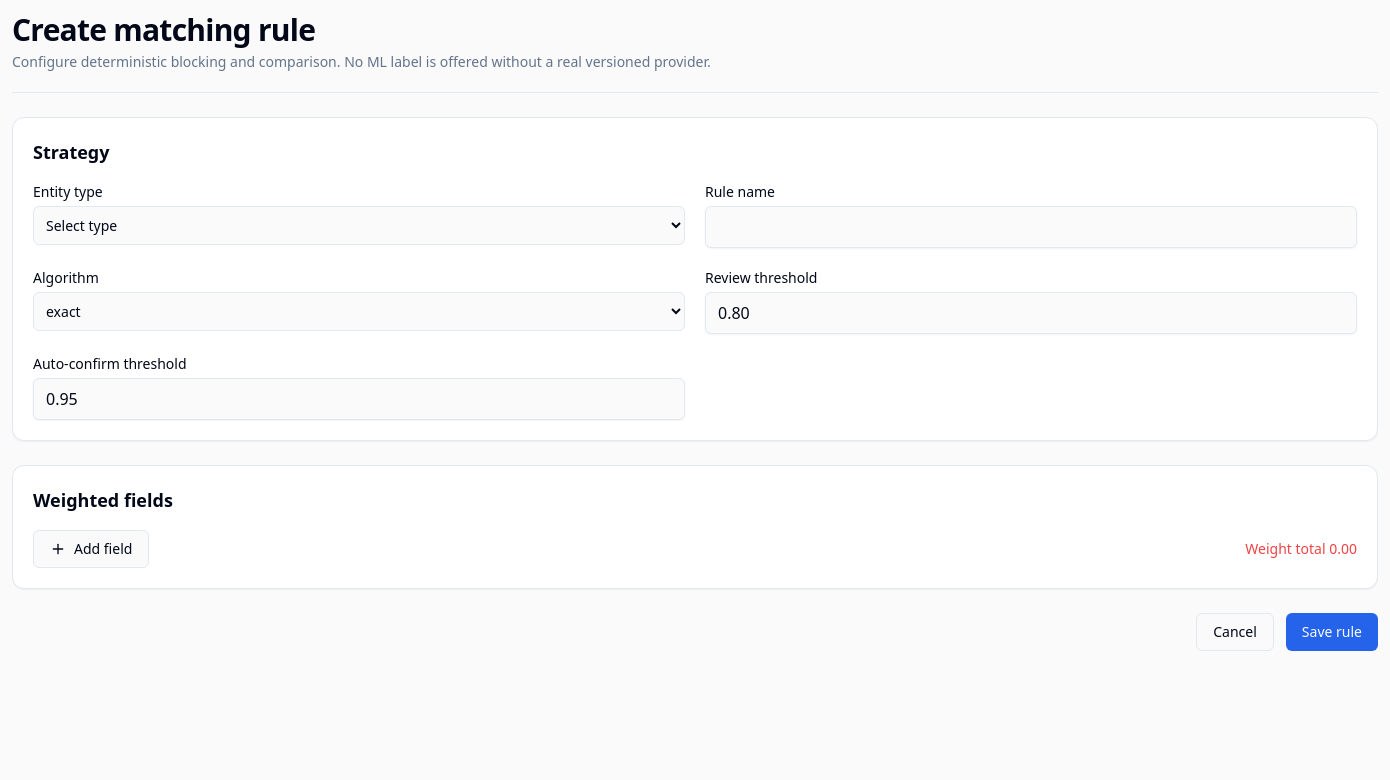
Test: MatchingRuleForm low coverage behavior › blocks invalid weight and threshold combinations before create
The image size is (1390, 780).
Select "Customer" in the dropdown labelled "Entity type" at (359, 226), box [33,206,685,245]
Type "Customer match" into the field labelled "Rule name" at (1031, 227), box [705,206,1357,248]
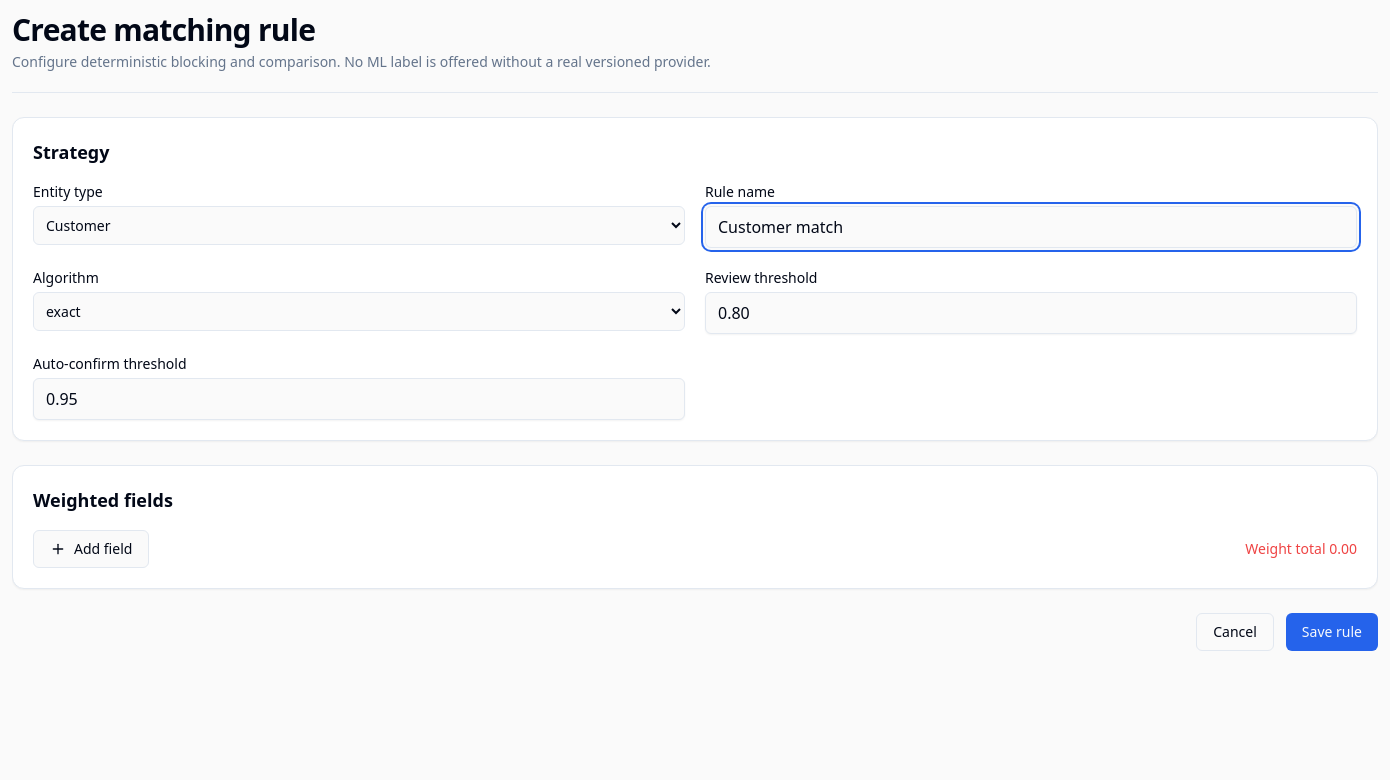
Replace the text in the number field labelled "Review threshold" with "0.99" at (1031, 313), box [705,292,1357,334]
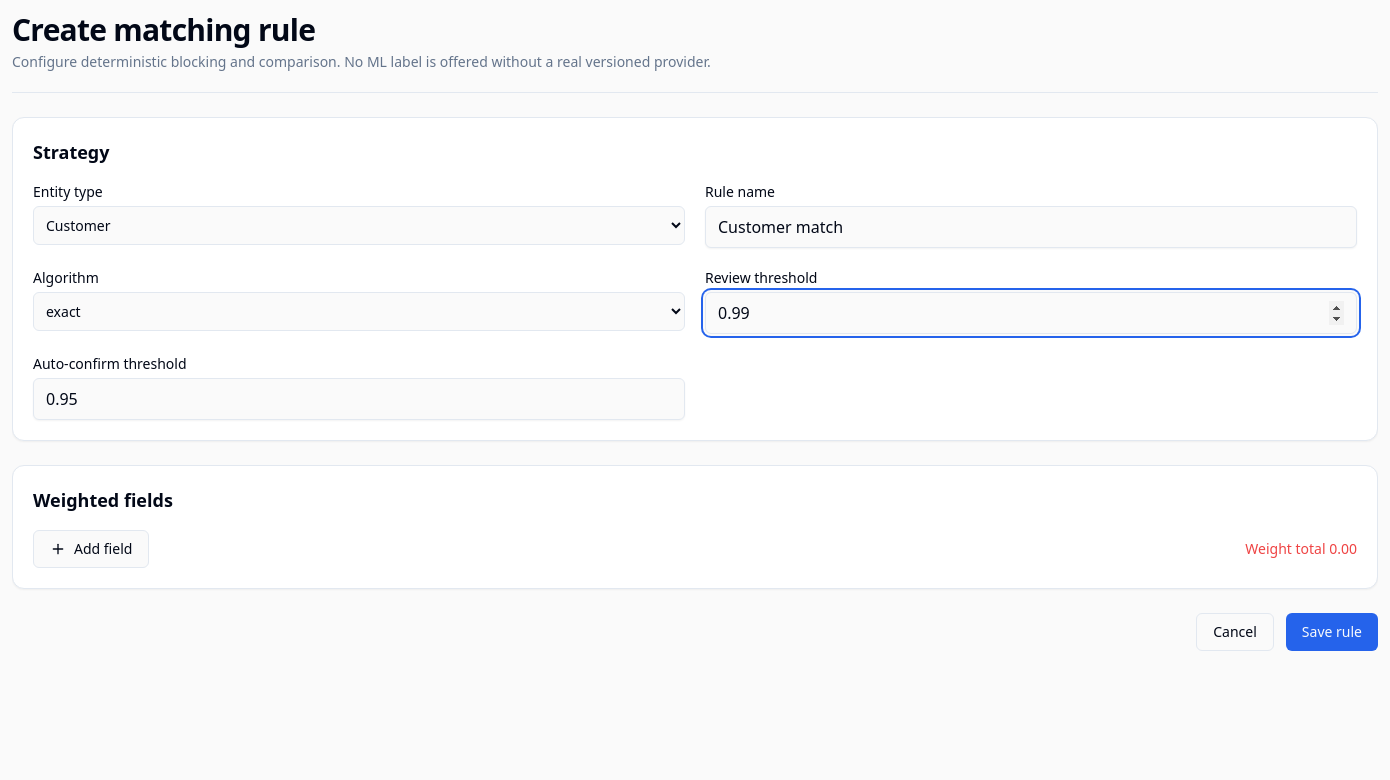
Click the button "Add field" at (91, 549), box [33,530,149,568]
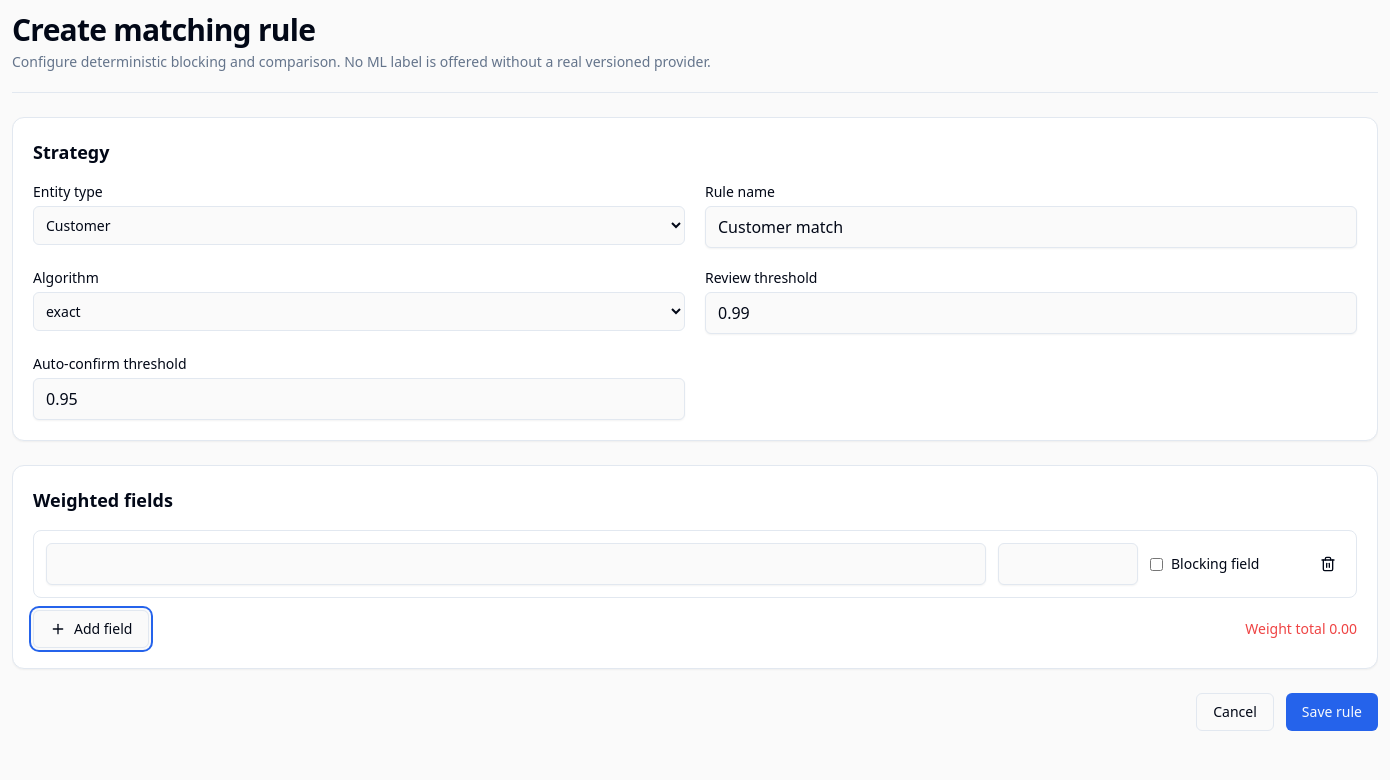
Type "email" into the field named "Matching field 1" at (516, 564), box [46,543,986,585]
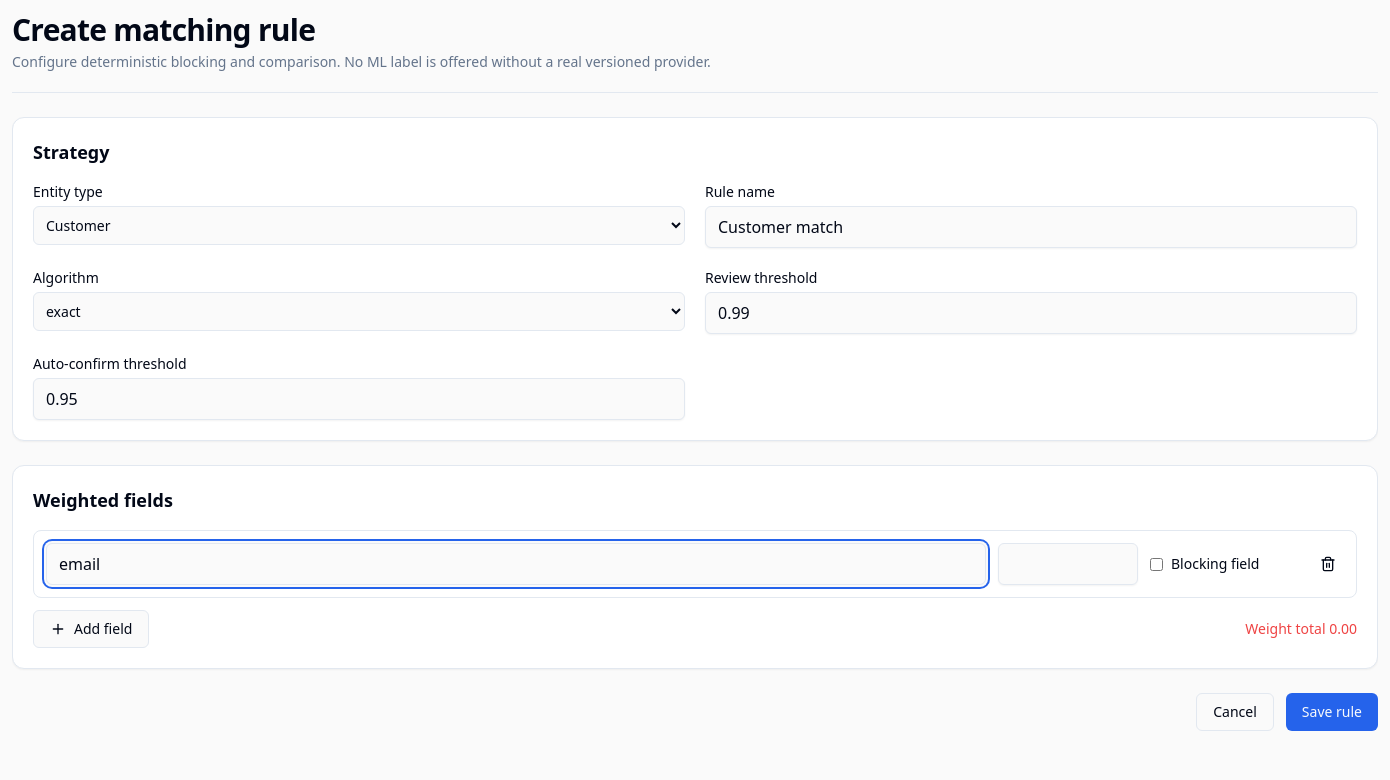
Type "0.50" into the number field named "Weight 1" at (1068, 564), box [998,543,1138,585]
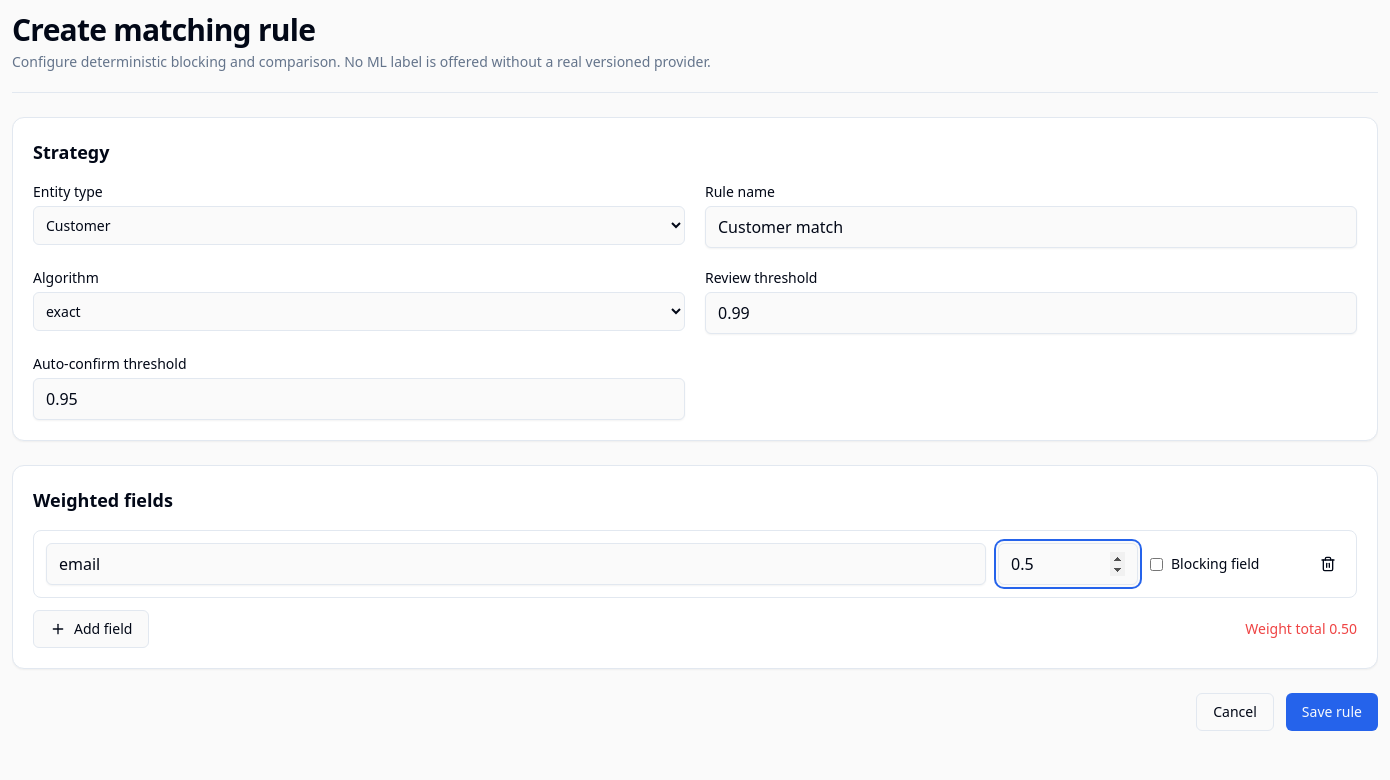
Click the button "Save rule" at (1332, 712), box [1286,693,1378,731]
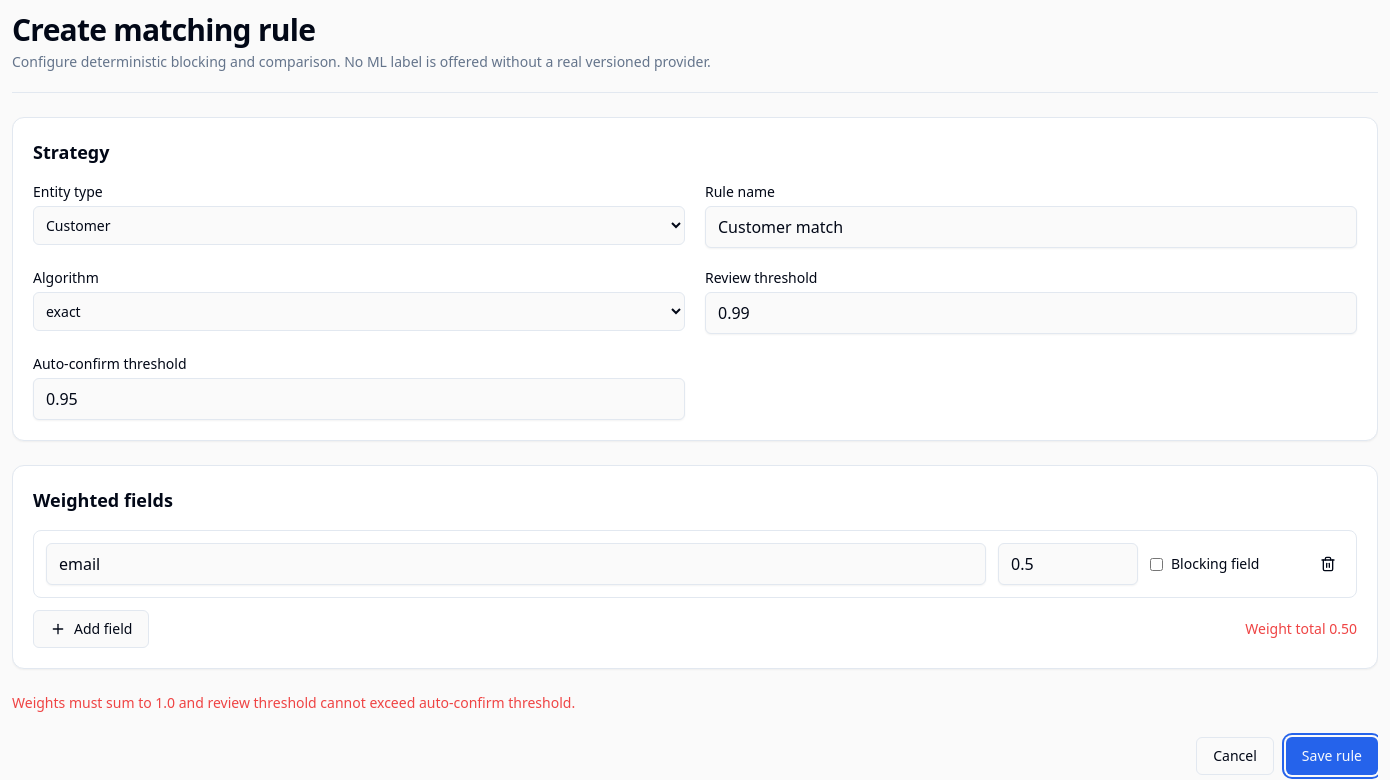
expect the message shows "Weights must sum to 1.0": met, box [12,693,575,712]
